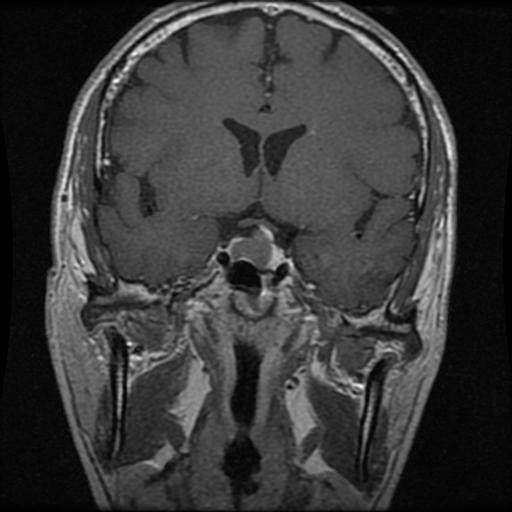Pituirity_tumour: (230, 227, 277, 267)
